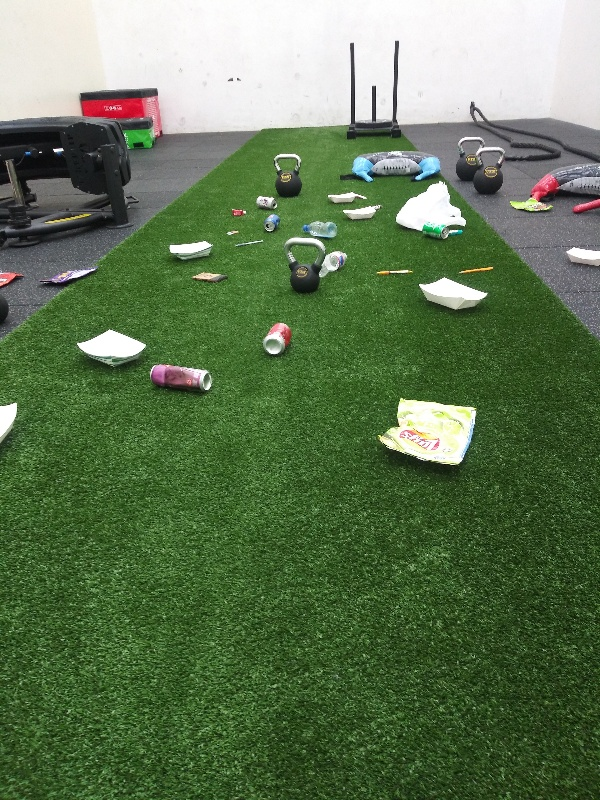bag: (373, 397, 481, 474), (36, 261, 105, 293), (503, 196, 555, 215), (1, 268, 24, 295)
bottle: (316, 245, 351, 280), (294, 219, 340, 240)
can: (147, 362, 213, 395), (261, 319, 294, 357), (418, 219, 452, 241), (261, 211, 282, 233), (253, 194, 279, 211)
plate: (71, 325, 149, 371), (413, 273, 491, 315), (168, 238, 216, 262), (1, 395, 23, 443), (565, 243, 600, 271), (341, 206, 379, 222), (325, 189, 356, 206)
